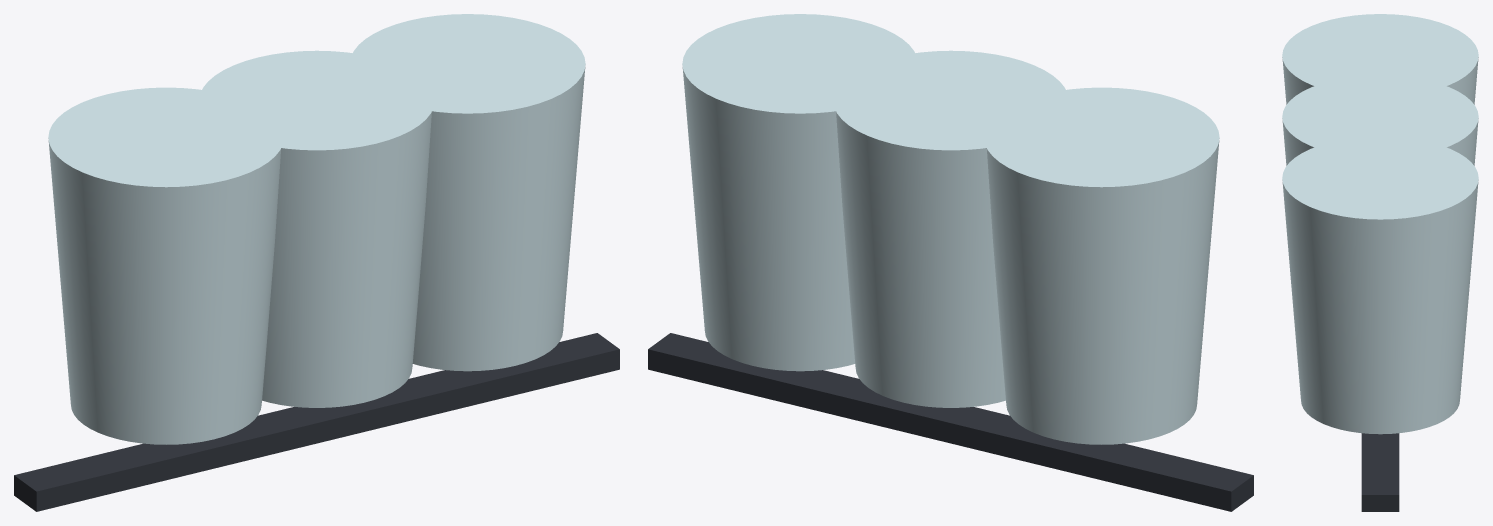
Rendered from chem-acids-neutralization.glb.
The picture shows the model from 3 angles, left to right: view 1: azimuth 30°, elevation 25°; view 2: azimuth 150°, elevation 25°; view 3: azimuth 270°, elevation 25°; orthographic projection. The views are drawn at different scales.
Parts seen in each view (by area): view 1: acid-beaker-red-glass, base-beaker-blue-glass, neutralization-product-center-glass, acid-base-lab-bench; view 2: acid-beaker-red-glass, base-beaker-blue-glass, neutralization-product-center-glass, acid-base-lab-bench; view 3: base-beaker-blue-glass, acid-beaker-red-glass, neutralization-product-center-glass, acid-base-lab-bench.
Part boxes in pixels (x1,y1,x2,y2): acid-beaker-red-glass: (48, 87, 283, 444); base-beaker-blue-glass: (350, 14, 585, 371); neutralization-product-center-glass: (200, 50, 434, 407); acid-base-lab-bench: (14, 333, 619, 511); acid-beaker-red-glass: (984, 87, 1219, 444); base-beaker-blue-glass: (682, 14, 917, 371); neutralization-product-center-glass: (833, 50, 1068, 407); acid-base-lab-bench: (648, 333, 1253, 511); base-beaker-blue-glass: (1282, 136, 1478, 434); acid-beaker-red-glass: (1282, 14, 1478, 104); neutralization-product-center-glass: (1282, 75, 1478, 165); acid-base-lab-bench: (1361, 433, 1399, 511).
Size of what is drawn, in the model's own units: 2.4 by 1.3 by 0.84.
